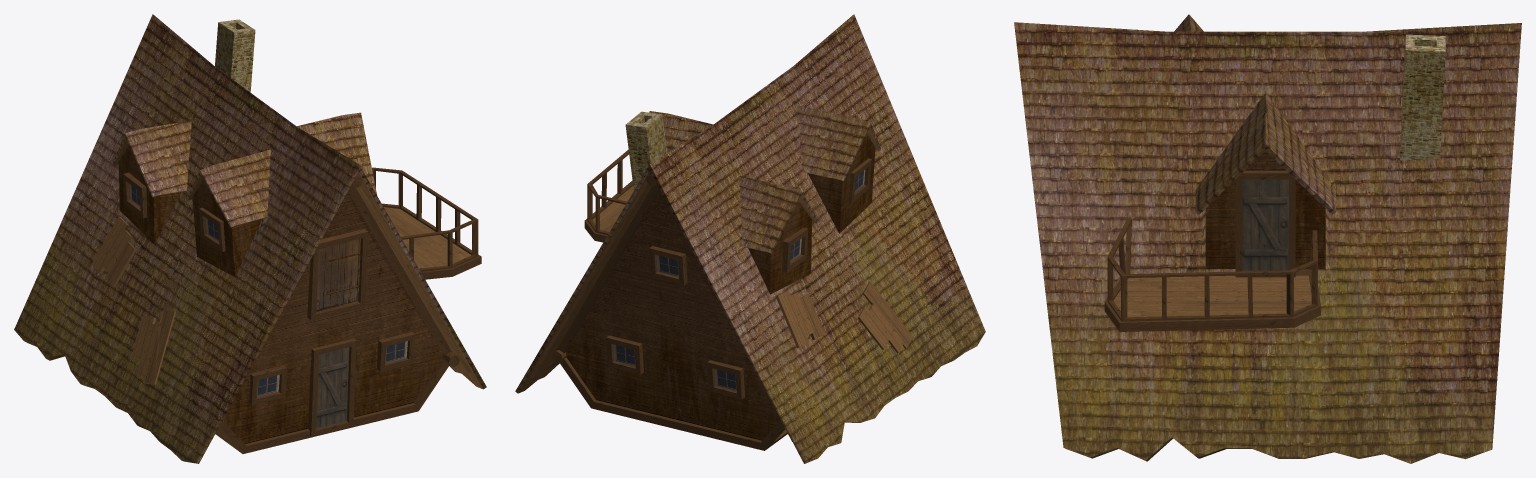
Rendered from witchhouse.obj.
3 renders of one model, left to right at view 1: azimuth 30°, elevation 25°; view 2: azimuth 150°, elevation 25°; view 3: azimuth 270°, elevation 25°, orthographic. The views are drawn at different scales.
Visible parts, largest first — view 1: witchhousemesh; view 2: witchhousemesh; view 3: witchhousemesh.
Part boxes in pixels (x1=…): witchhousemesh: x1=14, y1=14, x2=486, y2=463; witchhousemesh: x1=515, y1=14, x2=985, y2=463; witchhousemesh: x1=1014, y1=14, x2=1521, y2=463.
Size of the model in its own units: 8.99 by 8.04 by 10.16.
1 material, 1 textured.
